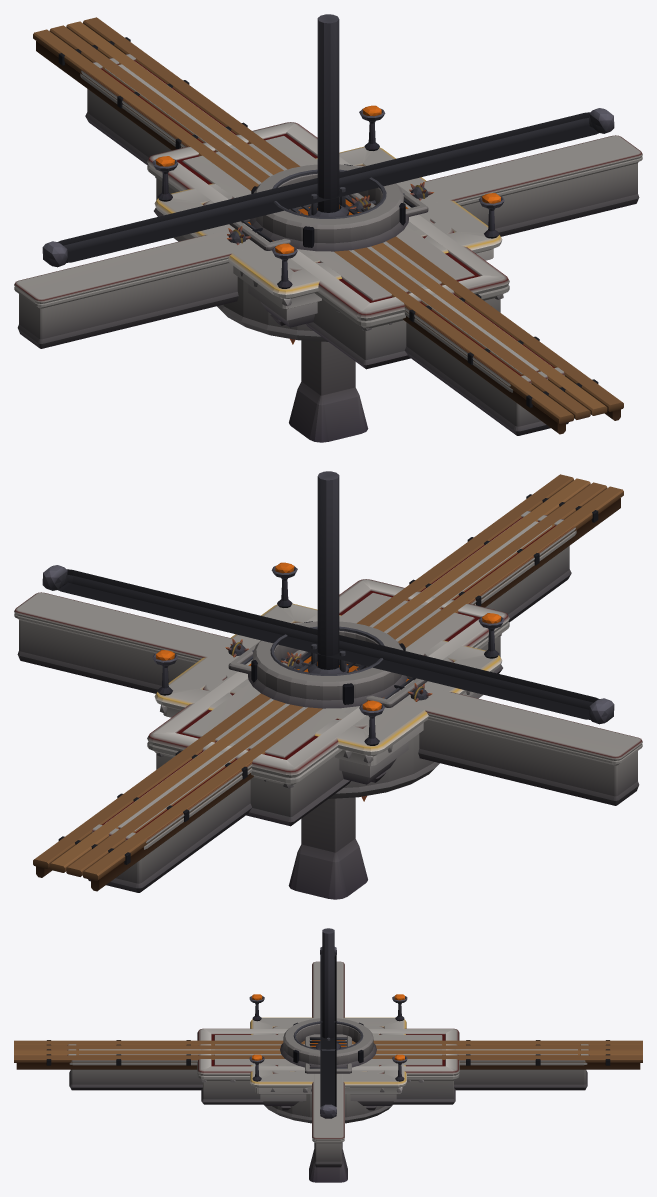
Rendered from fortress-4-l4IuQYaP.glb.
3 views of the same model, one above another, from view 1: azimuth 30°, elevation 25°; view 2: azimuth 150°, elevation 25°; view 3: azimuth 270°, elevation 25° (orthographic). The views are drawn at different scales.
Parts seen in each view (by area): view 1: block_3.5x2x48_plank#0, block_32x2x2.5_grate#0, block_8x2x20_ice#0, mount_14.4#0, pad_12x2x12#0, block_3.5x2x40_grate#0, geyserVent_5#0, support_0_square#0, press_5x6x2#0, disc_12x1.5#0, jetVent_8x3#0, balls_11x1.4#0; view 2: block_3.5x2x48_plank#0, block_32x2x2.5_grate#0, block_8x2x20_ice#0, mount_14.4#0, pad_12x2x12#0, block_3.5x2x40_grate#0, geyserVent_5#0, support_0_square#0, press_5x6x2#0, disc_12x1.5#0, jetVent_8x3#0; view 3: block_3.5x2x48_plank#0, block_8x2x20_ice#0, block_3.5x2x40_grate#0, pad_12x2x12#0, block_32x2x2.5_grate#0, geyserVent_5#0, mount_14.4#0, disc_12x1.5#0, press_5x6x2#0, support_0_square#0, jetVent_8x3#0.
Part boxes in pixels (x1,y1,x2,y2): block_3.5x2x48_plank#0: (33, 17, 623, 434); block_32x2x2.5_grate#0: (14, 135, 642, 348); block_8x2x20_ice#0: (147, 122, 509, 369); mount_14.4#0: (42, 108, 614, 267); pad_12x2x12#0: (152, 105, 504, 327); block_3.5x2x40_grate#0: (80, 54, 568, 435); geyserVent_5#0: (249, 164, 408, 251); support_0_square#0: (289, 340, 368, 442); press_5x6x2#0: (290, 14, 349, 344); disc_12x1.5#0: (203, 165, 453, 341); jetVent_8x3#0: (229, 184, 428, 250); balls_11x1.4#0: (227, 182, 433, 244); block_3.5x2x48_plank#0: (33, 474, 623, 891); block_32x2x2.5_grate#0: (14, 592, 642, 805); block_8x2x20_ice#0: (147, 579, 509, 826); mount_14.4#0: (42, 565, 614, 724); pad_12x2x12#0: (152, 562, 504, 784); block_3.5x2x40_grate#0: (88, 511, 576, 892); geyserVent_5#0: (248, 621, 407, 708); support_0_square#0: (288, 797, 367, 899); press_5x6x2#0: (307, 471, 366, 801); disc_12x1.5#0: (203, 622, 453, 798); jetVent_8x3#0: (228, 641, 427, 707); block_3.5x2x48_plank#0: (14, 1040, 642, 1069); block_8x2x20_ice#0: (197, 1028, 459, 1104); block_3.5x2x40_grate#0: (67, 1044, 589, 1090); pad_12x2x12#0: (249, 994, 407, 1105); block_32x2x2.5_grate#0: (312, 961, 344, 1167); geyserVent_5#0: (280, 1018, 376, 1067); mount_14.4#0: (320, 947, 336, 1118); disc_12x1.5#0: (264, 1026, 392, 1123); press_5x6x2#0: (316, 928, 340, 1048); support_0_square#0: (309, 1149, 347, 1182); jetVent_8x3#0: (305, 1036, 351, 1073).
Bounding box in the file's own units: 32 × 20.5 × 48.
